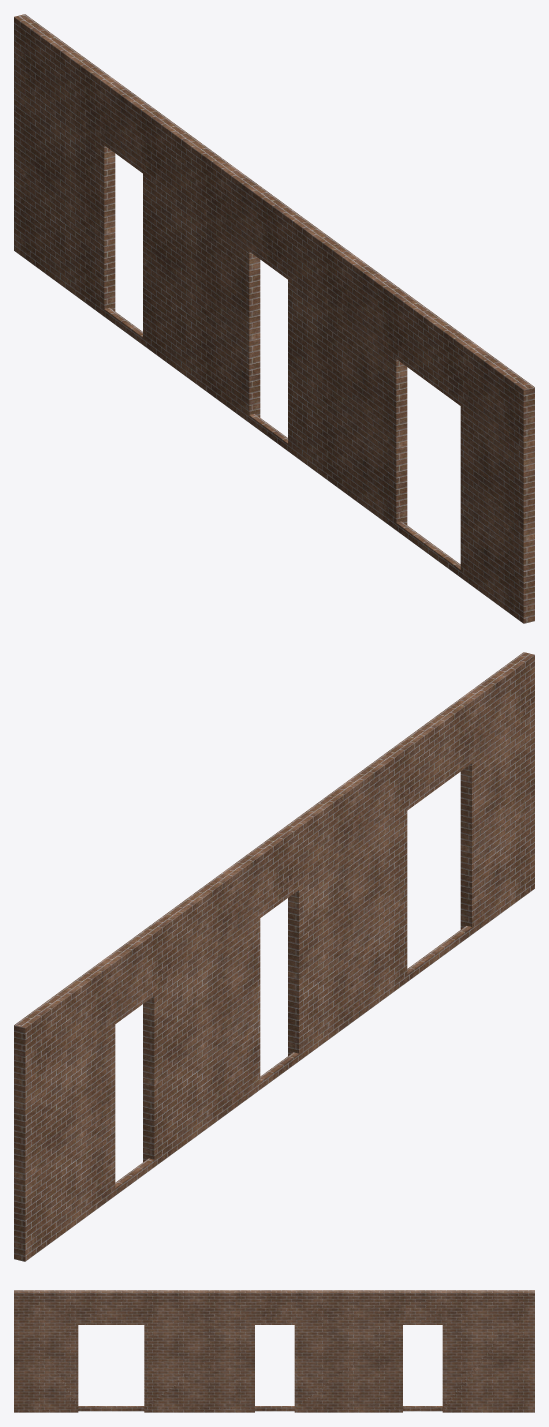
Rendered from Joglo_part_20.fbx.
The picture shows the model from 3 angles, top to bottom: view 1: azimuth 30°, elevation 25°; view 2: azimuth 150°, elevation 25°; view 3: azimuth 270°, elevation 25°; orthographic projection. The views are drawn at different scales.
Parts seen in each view (by area): view 1: Mesh115_Brick___Brown_0.001; view 2: Mesh115_Brick___Brown_0.001; view 3: Mesh115_Brick___Brown_0.001.
Part boxes in pixels (x1,y1,x2,y2): Mesh115_Brick___Brown_0.001: (14,14,534,623); Mesh115_Brick___Brown_0.001: (14,652,534,1261); Mesh115_Brick___Brown_0.001: (14,1290,534,1412).
Bounding box in the file's own units: 5.9 × 118 × 467.
